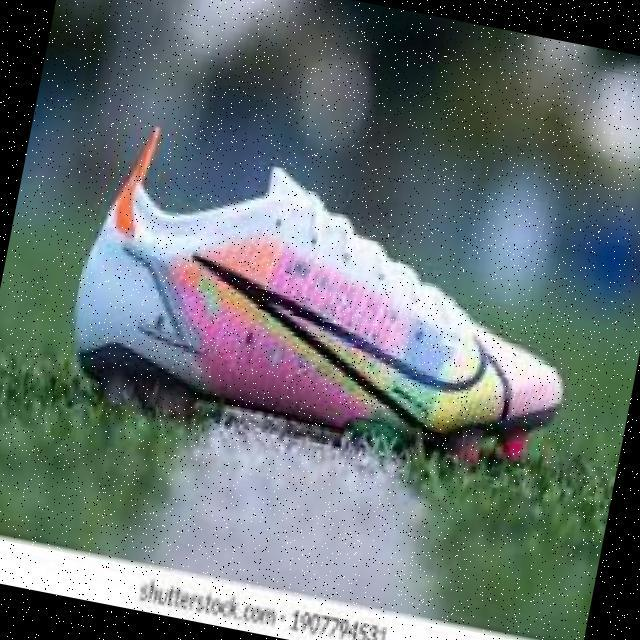Nike: (163, 245, 528, 442)
